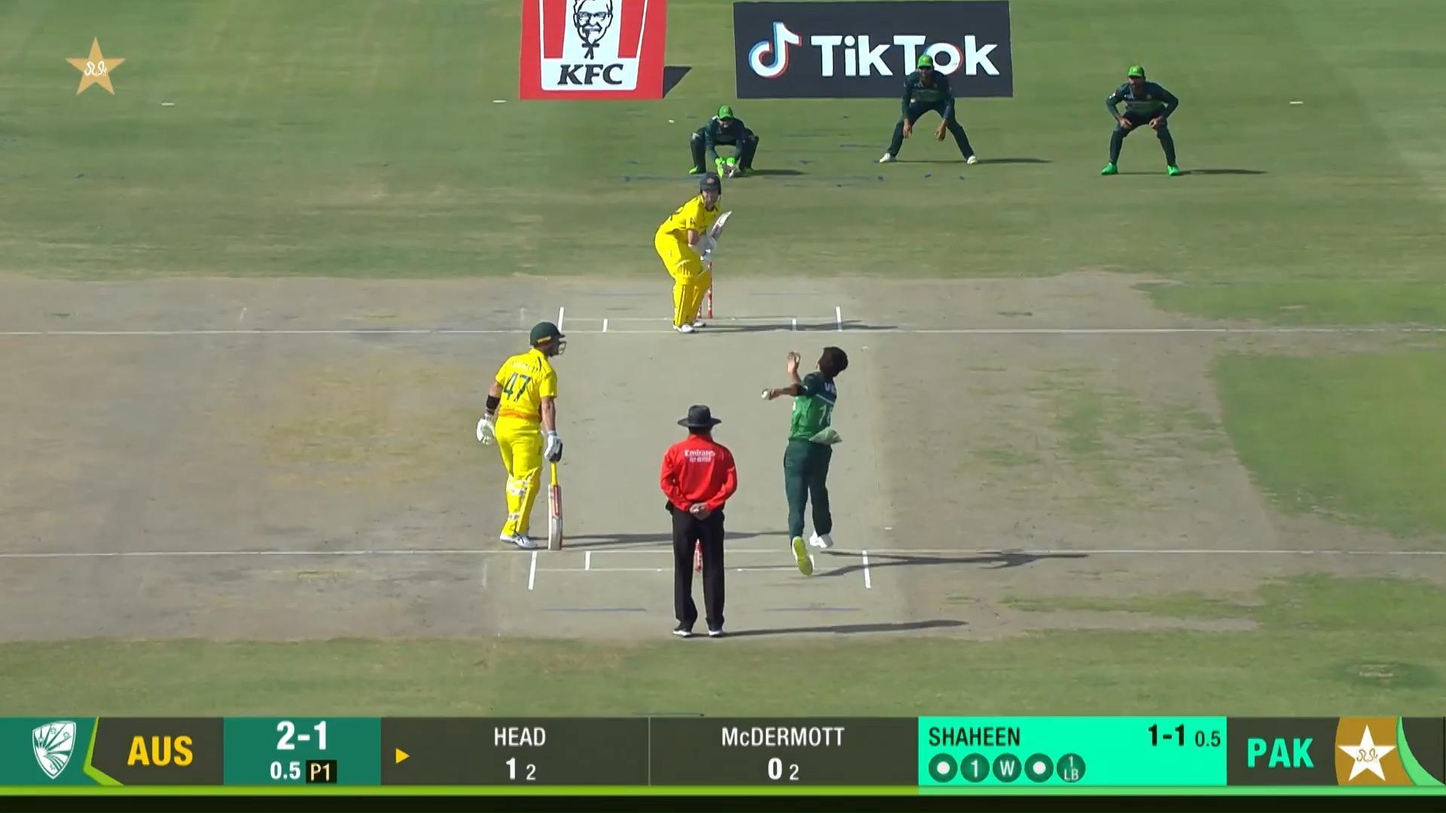BM 1: (654, 171, 734, 334)
BO: (760, 345, 851, 575)
